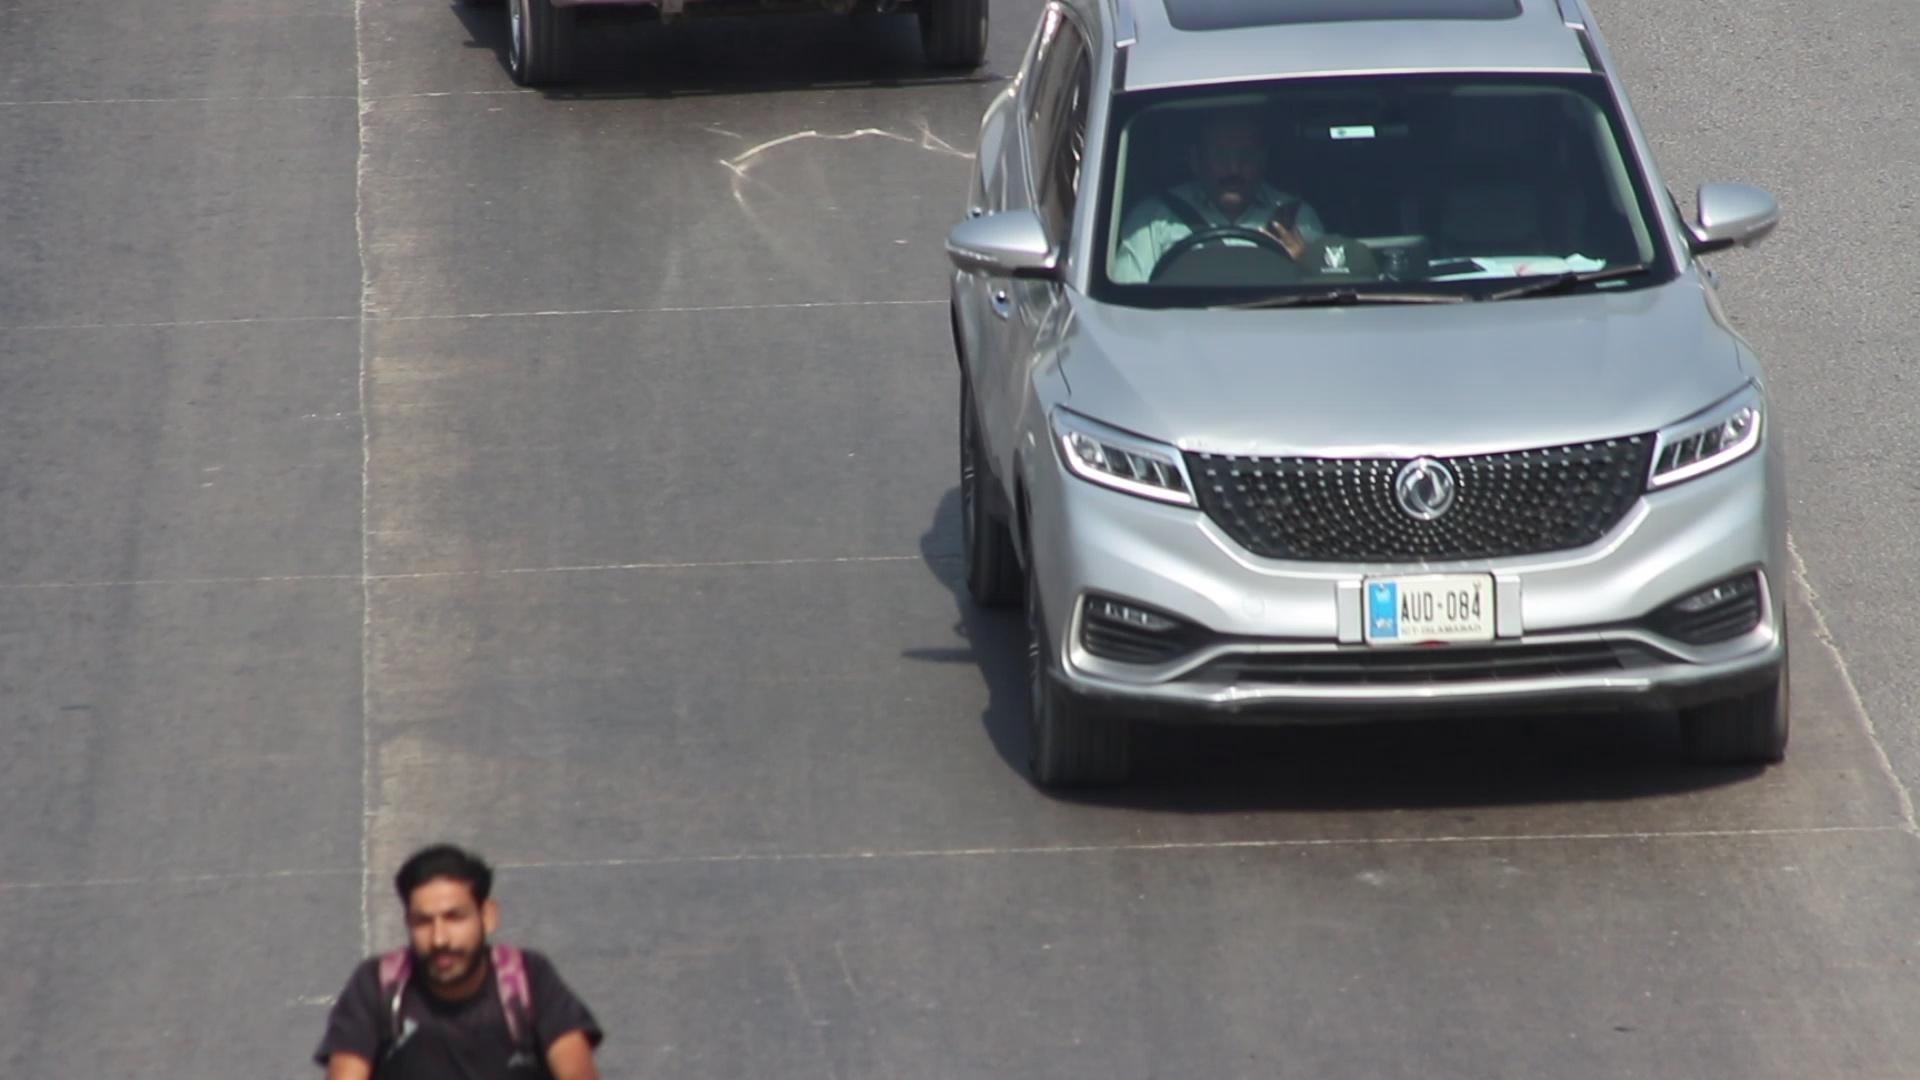windshield: (1084, 59, 1671, 320)
